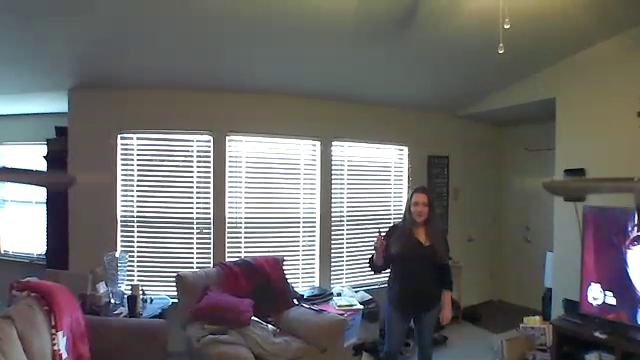up: (368, 222, 388, 251)
